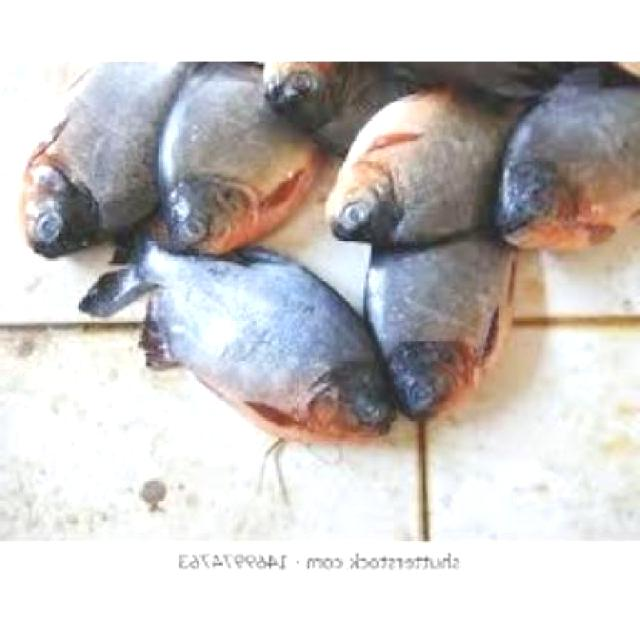ikan-pacu: (129, 228, 388, 440), (318, 77, 512, 240), (152, 59, 332, 233), (378, 229, 514, 423)
